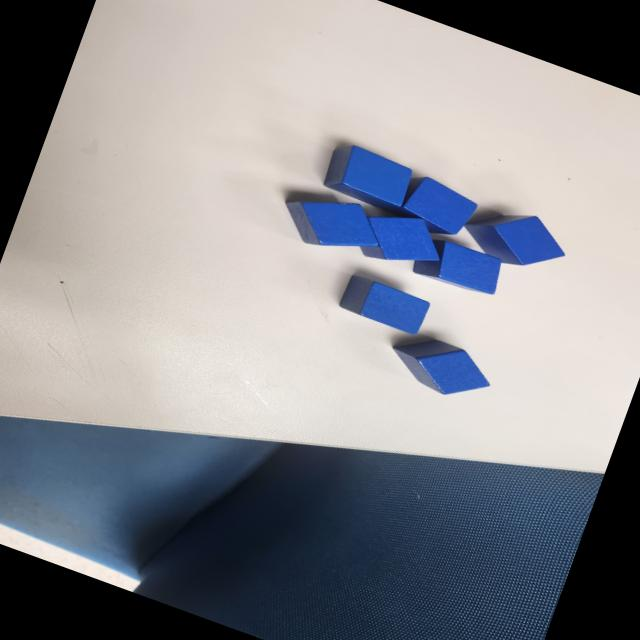blue: (274, 178, 392, 268), (456, 194, 574, 283), (382, 324, 500, 410), (354, 198, 452, 279), (319, 140, 416, 216), (407, 230, 507, 302), (395, 172, 481, 246), (337, 272, 432, 338)
